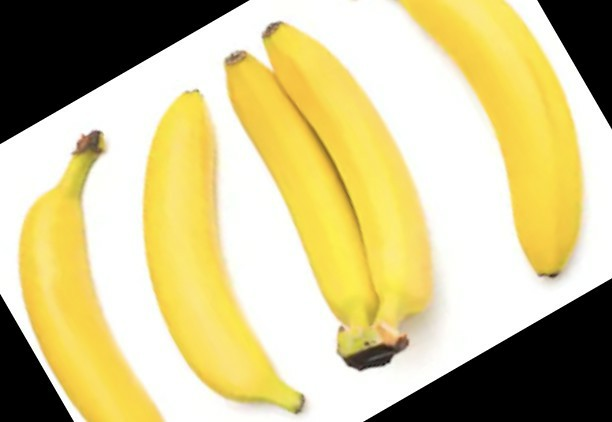fresh_banana: (231, 31, 432, 365), (401, 1, 589, 278), (141, 90, 294, 422), (21, 132, 152, 422)
